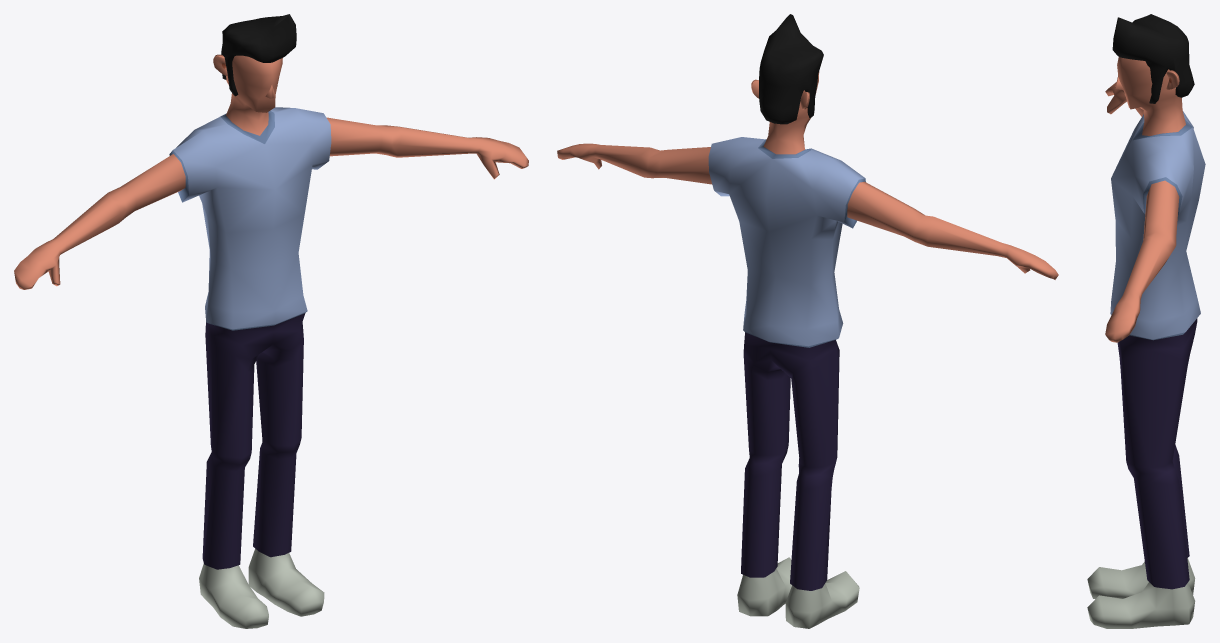
The model's file is characterA.fbx.
3 views of the same model, side by side, from view 1: azimuth 30°, elevation 25°; view 2: azimuth 150°, elevation 25°; view 3: azimuth 270°, elevation 25° (orthographic). The views are drawn at different scales.
Visible parts, largest first — view 1: character_geo, hair_geo; view 2: character_geo, hair_geo; view 3: character_geo, hair_geo.
Part boxes in pixels (x1,y1,x2,y2): character_geo: (14,54,528,628); hair_geo: (221,14,296,96); character_geo: (557,71,1058,628); hair_geo: (759,14,823,124); character_geo: (1087,57,1205,628); hair_geo: (1112,14,1194,103).
Bounding box in the file's own units: 174 × 193 × 34.55.
